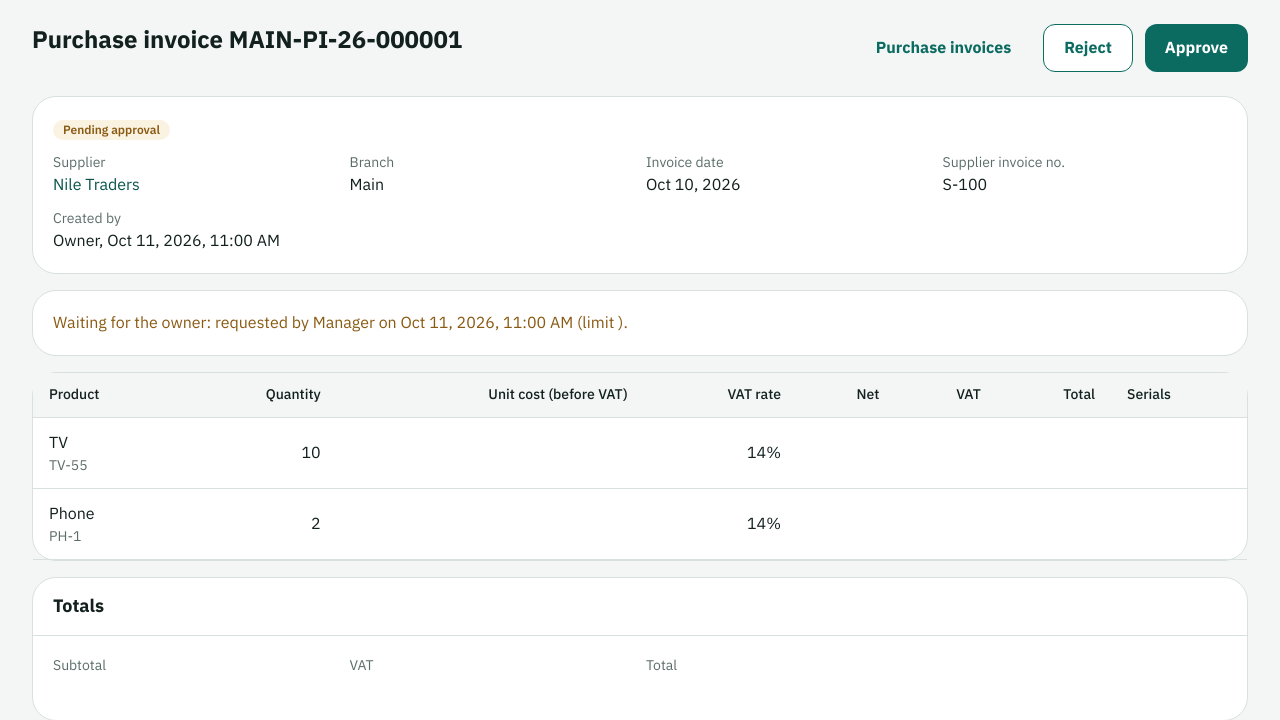
Test: U02 purchase invoice page › U06: APPROVAL_OWNER_ONLY is shown translated
The width and height of the screenshot is (1280, 720).
Click the button "Approve" at (1196, 48), box top-left (1145, 24), bottom-right (1248, 72)
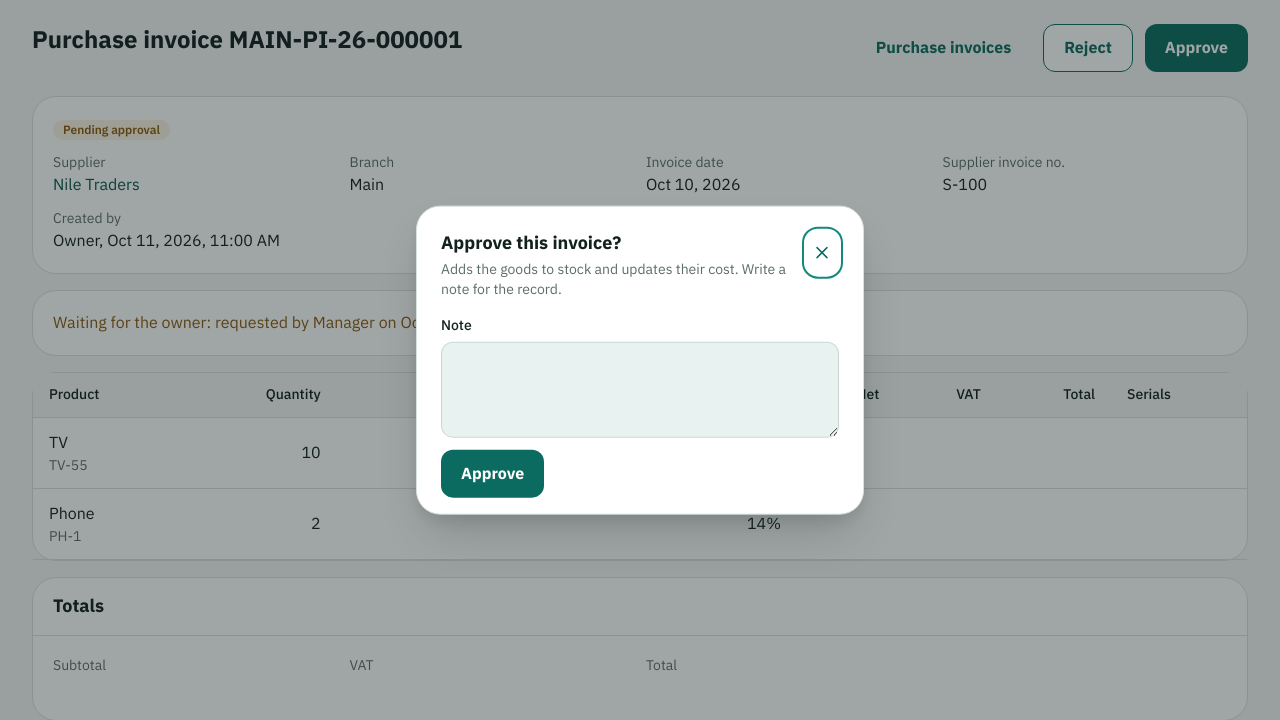
Type "Looks right" into the text box labelled "Note" at (640, 389), box top-left (441, 341), bottom-right (839, 437)
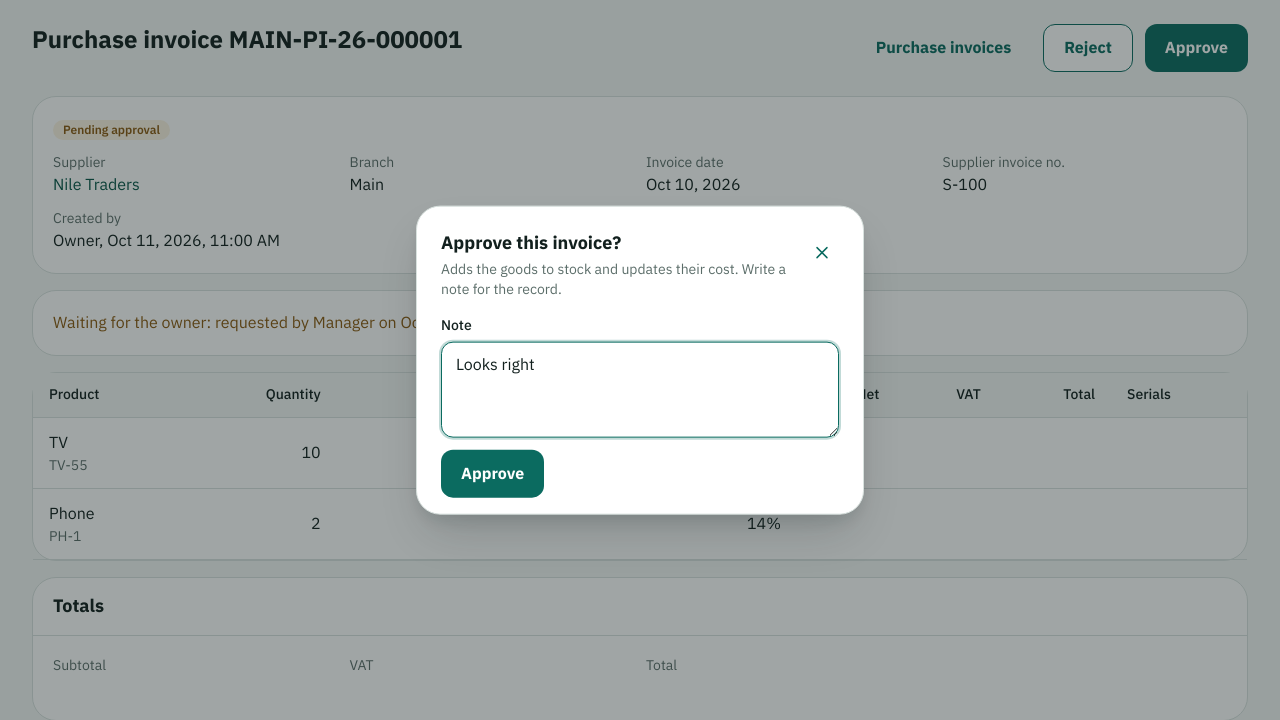
Click the button "Approve" at (493, 473), box top-left (441, 449), bottom-right (544, 497)
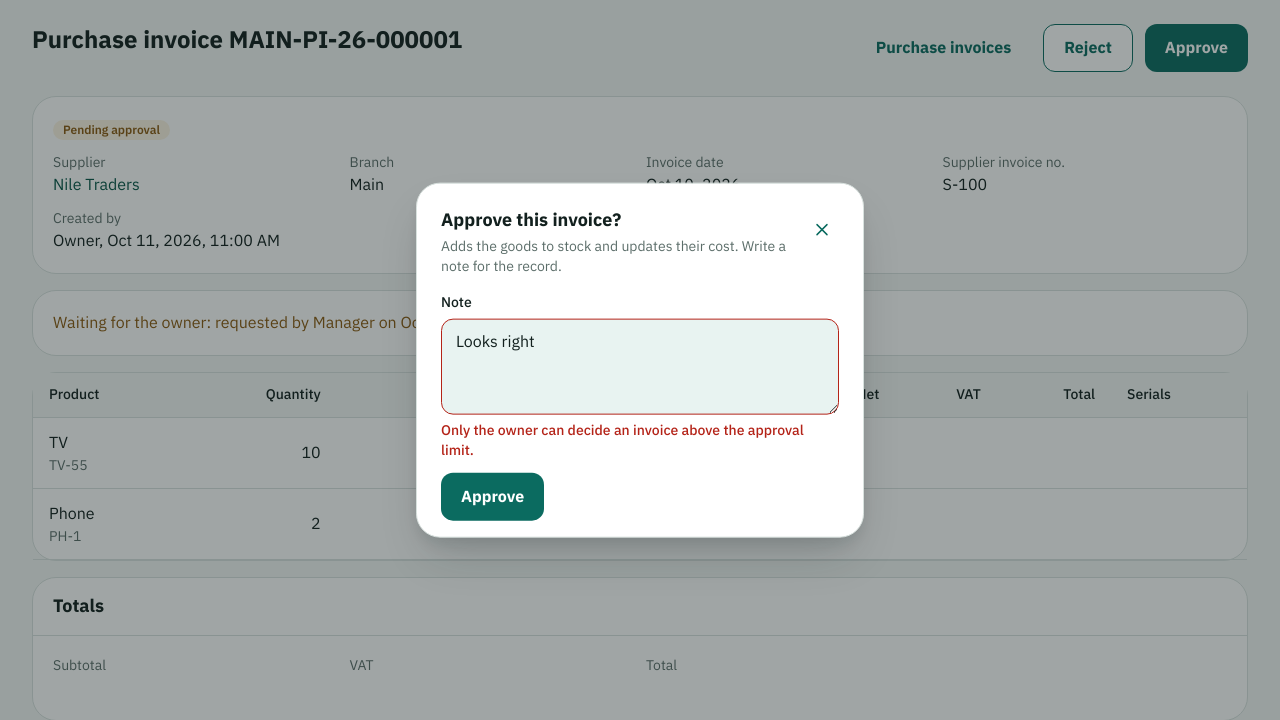
Check: the text "Only the owner can decide an invoice above the approval limit." is shown, box top-left (441, 420), bottom-right (839, 460)
